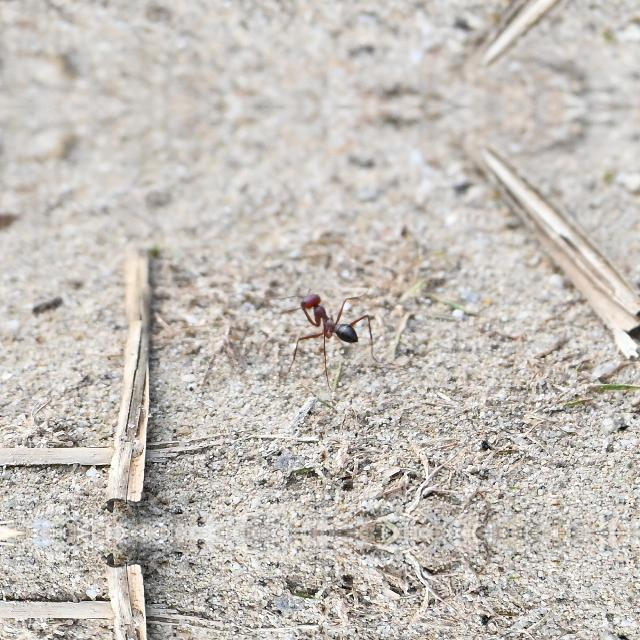Cataglyphis: (280, 286, 382, 356), (26, 291, 68, 317)
